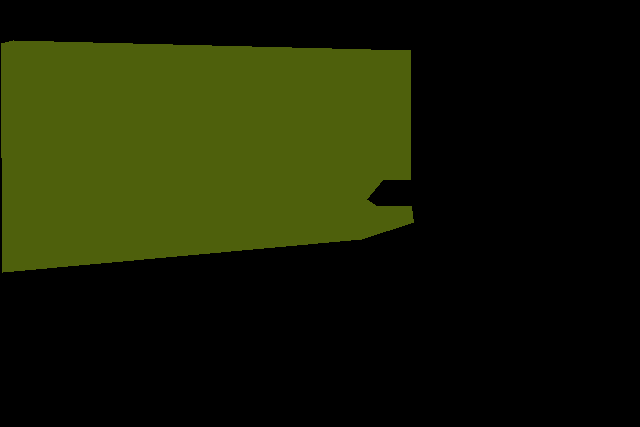Train: (1, 40, 413, 272)
